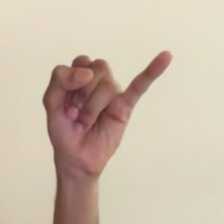J: (41, 30, 182, 191)
